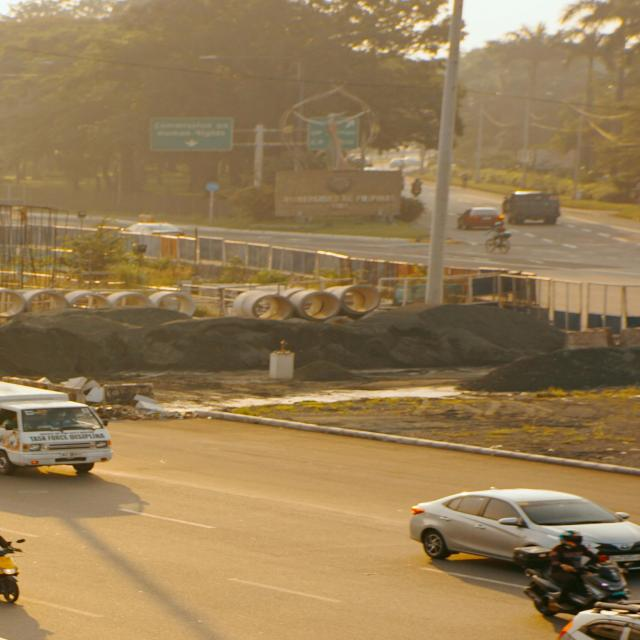bus: (0, 593, 478, 640)
car: (412, 489, 640, 576), (0, 379, 113, 477), (546, 602, 640, 640), (457, 208, 502, 229)
motorbike: (515, 530, 633, 615), (0, 518, 19, 599)
